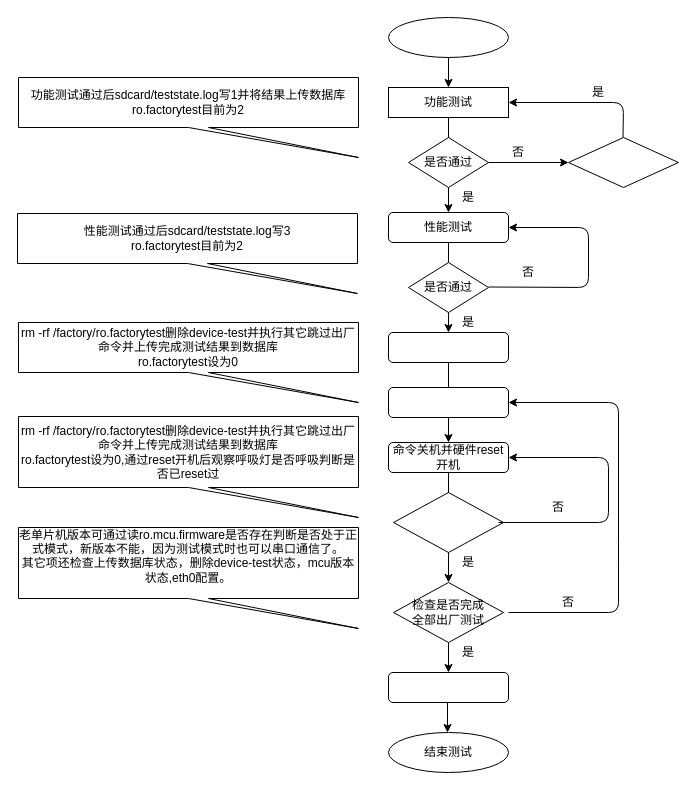
Some shapes in this 696 by 790 pixel diagram are drawn without their labels. The box of each missing label's shape, as (x1, y1, x2, y2) in pixels:
出厂配置: (388, 672, 508, 702)
完成测试: (388, 332, 508, 362)
开始测试: (388, 16, 508, 58)
是否呼吸灯处 于呼吸状态: (392, 492, 504, 552)
是否维修完成: (568, 136, 678, 188)
跳过出厂: (388, 386, 508, 418)
